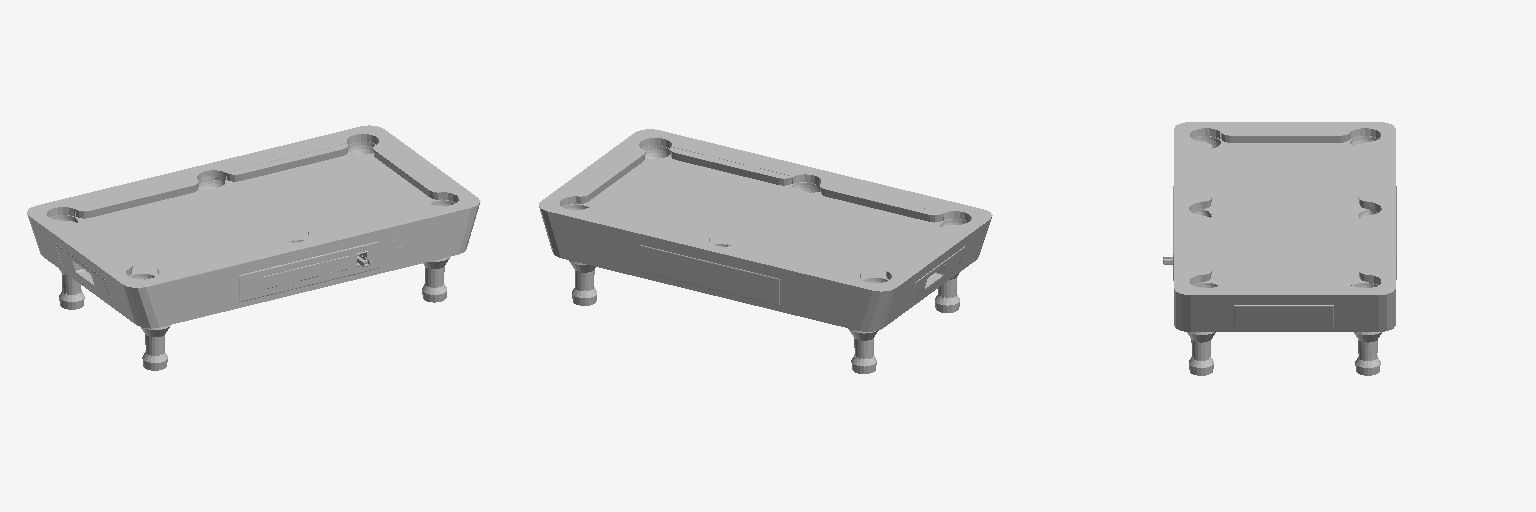
The model's file is agrvai6.obj.
3 renders of one model, left to right at view 1: azimuth 30°, elevation 25°; view 2: azimuth 150°, elevation 25°; view 3: azimuth 270°, elevation 25°, orthographic.
Visible parts, largest first — view 1: ChamferBox_0, Box001_7, ChamferBo4_5, ChamferBo5_6, ChamferBo1_1, Cylinder04_16, Box003_34, Cylinder07_16, Cylinder05_16, ChamferBo3_4, ChamferBo2_3, ChamferBo6_20 (+1 smaller); view 2: ChamferBox_0, Box001_7, ChamferBo3_4, ChamferBo2_3, ChamferBo1_1, Cylinder05_16, Cylinder06_16, Cylinder04_16, ChamferBo4_5, ChamferBo5_6, ChamferBo0_1; view 3: Box001_7, ChamferBox_0, ChamferBo0_1, Cylinder06_16, Cylinder07_16, ChamferBo4_5, ChamferBo3_4, ChamferBo5_6, ChamferBo2_3.
Boxes of the visible parts, x1,y1,x2,y2 form: ChamferBox_0: [27, 125, 480, 328]; Box001_7: [76, 152, 441, 275]; ChamferBo4_5: [75, 179, 198, 218]; ChamferBo5_6: [226, 143, 348, 181]; ChamferBo1_1: [373, 144, 441, 199]; Cylinder04_16: [141, 325, 170, 370]; Box003_34: [265, 257, 346, 287]; Cylinder07_16: [422, 257, 449, 302]; Cylinder05_16: [59, 269, 84, 309]; ChamferBo3_4: [157, 238, 280, 273]; ChamferBo2_3: [308, 202, 428, 234]; ChamferBo6_20: [239, 241, 379, 301]; ChamferBox_0: [539, 129, 992, 331]; Box001_7: [576, 156, 941, 279]; ChamferBo3_4: [820, 183, 943, 222]; ChamferBo2_3: [670, 147, 792, 185]; ChamferBo1_1: [576, 149, 645, 203]; Cylinder05_16: [848, 328, 878, 373]; Cylinder06_16: [569, 260, 596, 305]; Cylinder04_16: [935, 273, 959, 312]; ChamferBo4_5: [738, 242, 860, 277]; ChamferBo5_6: [589, 206, 710, 236]; ChamferBo0_1: [886, 225, 954, 279]; Box001_7: [1202, 139, 1368, 284]; ChamferBox_0: [1174, 122, 1395, 331]; ChamferBo0_1: [1221, 132, 1350, 142]; Cylinder06_16: [1354, 332, 1381, 375]; Cylinder07_16: [1187, 332, 1215, 375]; ChamferBo4_5: [1358, 142, 1368, 208]; ChamferBo3_4: [1202, 142, 1211, 208]; ChamferBo5_6: [1359, 216, 1368, 281]; ChamferBo2_3: [1202, 216, 1211, 281].
Size of the model in its own units: 12.08 by 3.09 by 6.86.